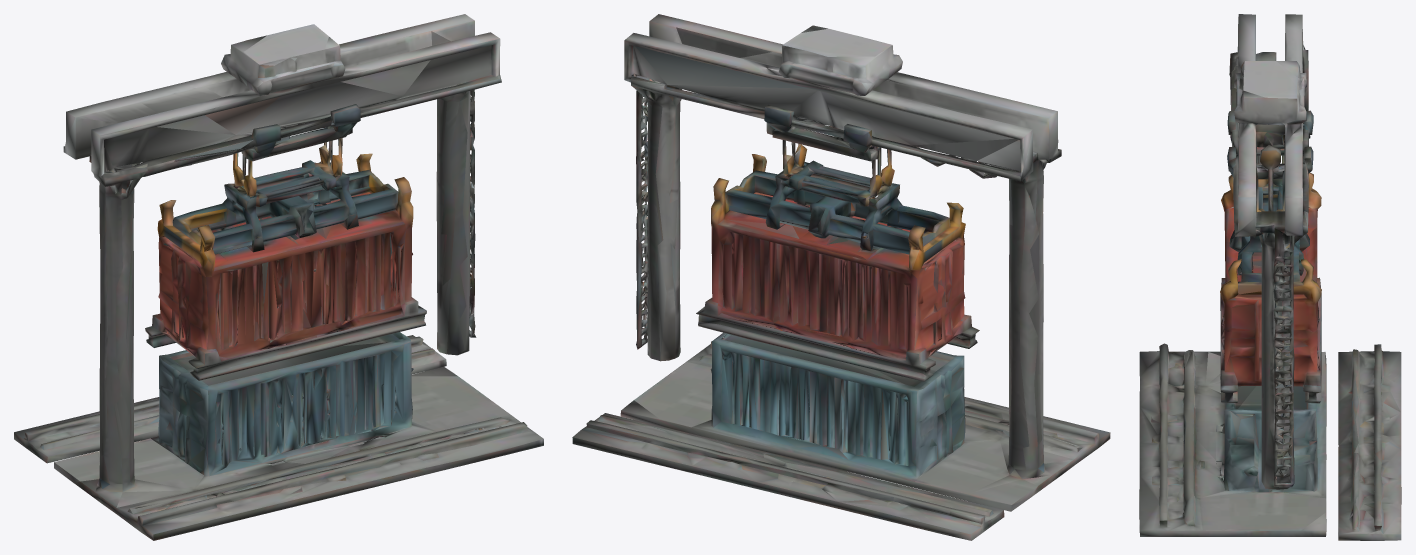
File: sc-cargo-lock.glb
3 views of the same model, side by side, from view 1: azimuth 30°, elevation 25°; view 2: azimuth 150°, elevation 25°; view 3: azimuth 270°, elevation 25° (orthographic). The views are drawn at different scales.
Parts seen in each view (by area): view 1: geometry_0; view 2: geometry_0; view 3: geometry_0.
Part boxes in pixels (<box>): geometry_0: <box>14,14,543,540</box>; geometry_0: <box>572,14,1110,540</box>; geometry_0: <box>1139,14,1401,540</box>.
Size of the model in its own units: 1 by 0.9498 by 0.6071.
Materials: 1 (1 with a texture image).
